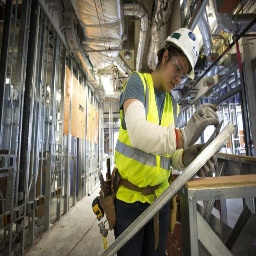helmet: (163, 28, 203, 84)
person: (112, 26, 202, 256)
vest: (117, 68, 184, 198)
